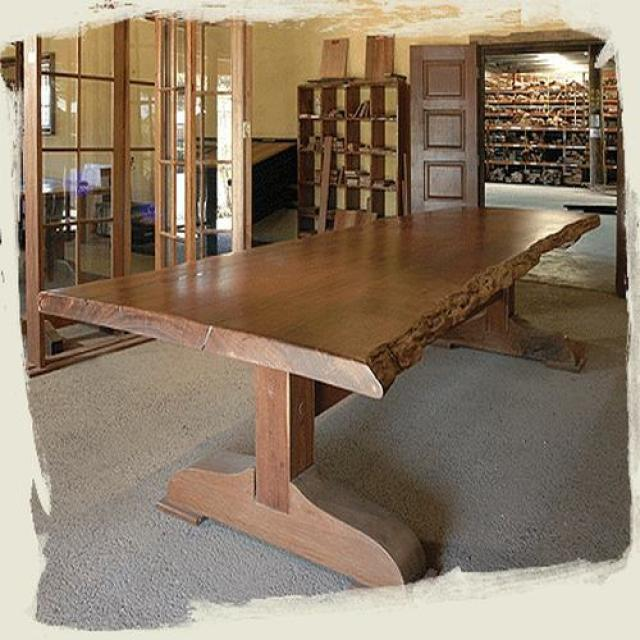table: (37, 209, 600, 588)
